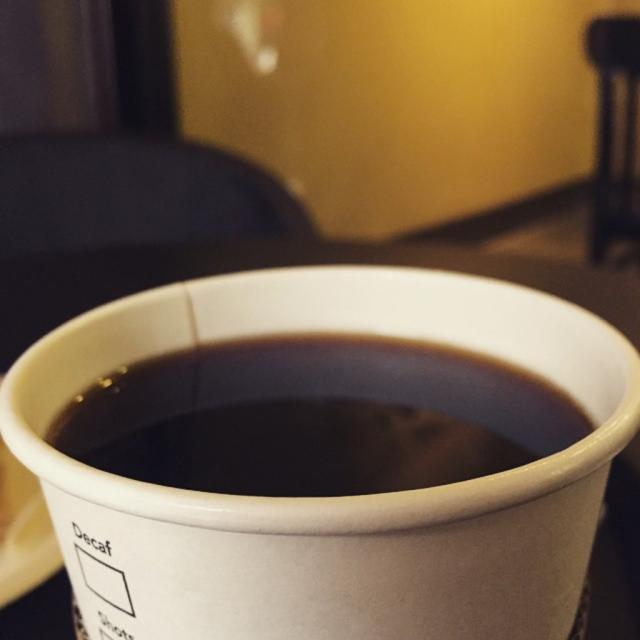Coffee: (47, 328, 596, 501)
Tea: (42, 338, 588, 492)
